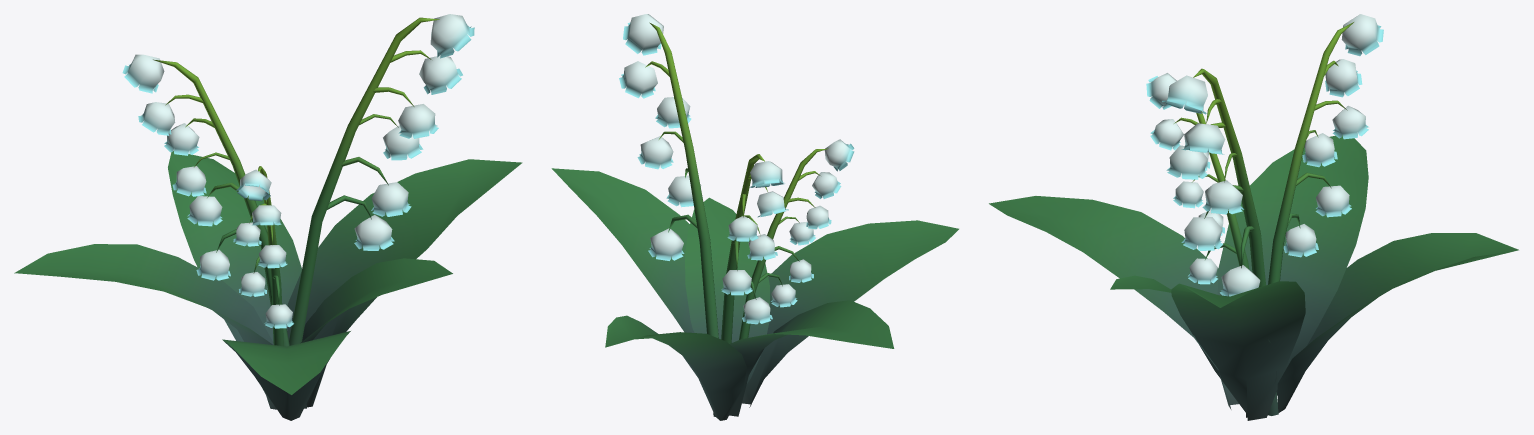
Rendered from flower6.glb.
3 renders of one model, left to right at view 1: azimuth 30°, elevation 25°; view 2: azimuth 150°, elevation 25°; view 3: azimuth 270°, elevation 25°, orthographic. The views are drawn at different scales.
Parts seen in each view (by area): view 1: Flower.006; view 2: Flower.006; view 3: Flower.006.
Part boxes in pixels (box(x1,y1,x2,y2)): Flower.006: box(14, 14, 522, 420); Flower.006: box(551, 14, 958, 420); Flower.006: box(989, 14, 1518, 420).
Size of the model in its own units: 3.91 by 3.25 by 3.92.
1 material, 1 textured.
